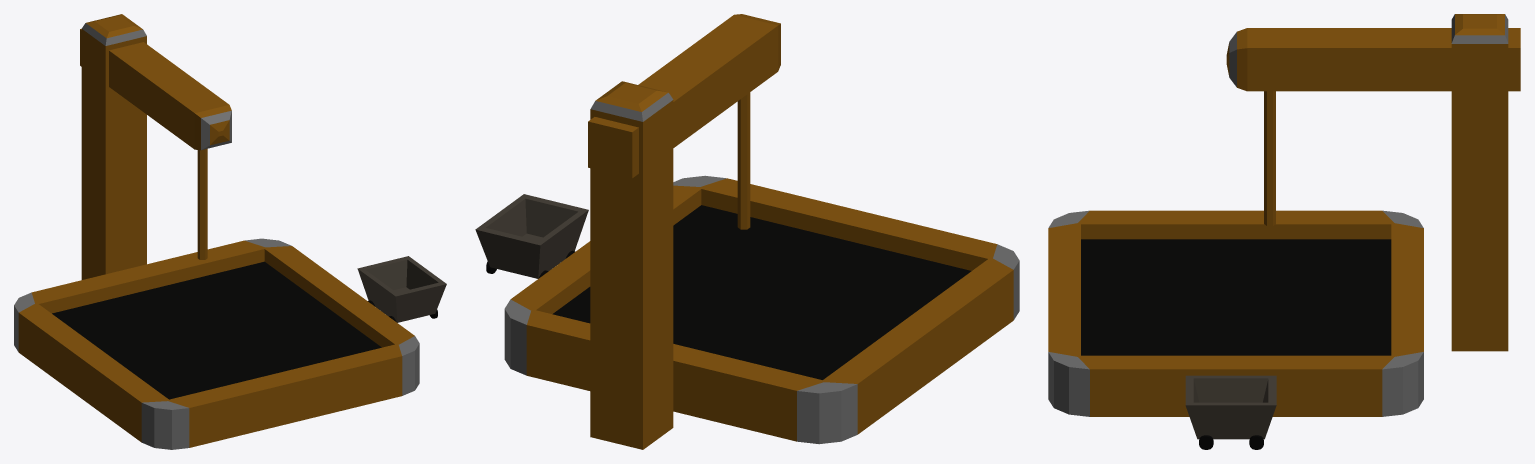
File: QuarryRemaster.fbx
3 renders of one model, left to right at view 1: azimuth 30°, elevation 25°; view 2: azimuth 150°, elevation 25°; view 3: azimuth 270°, elevation 25°, orthographic. The views are drawn at different scales.
Visible parts, largest first — view 1: Querry; view 2: Querry; view 3: Querry.
Part boxes in pixels (left/top/right/bottom): Querry: left=14, top=14, right=446, bottom=449; Querry: left=475, top=14, right=1019, bottom=449; Querry: left=1048, top=14, right=1520, bottom=449.
Bounding box in the file's own units: 118 × 86.93 × 117.
